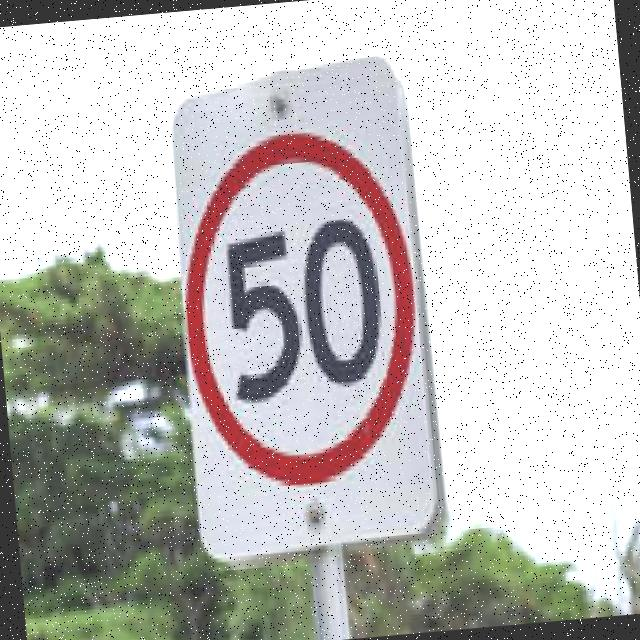Ograniczenie predkosci do 50: (182, 120, 421, 494)
